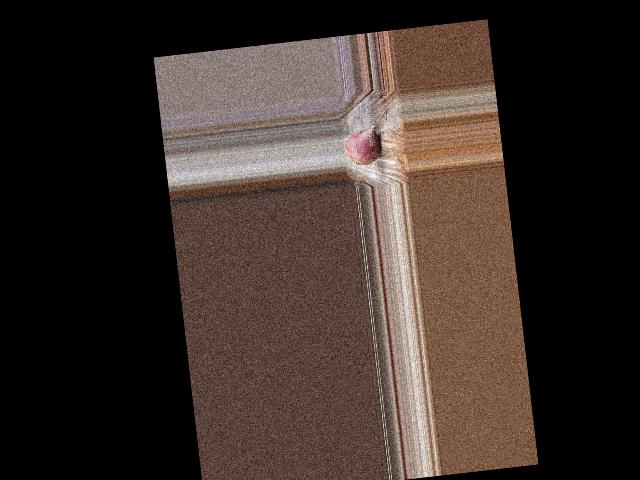beet: (340, 109, 392, 166)
